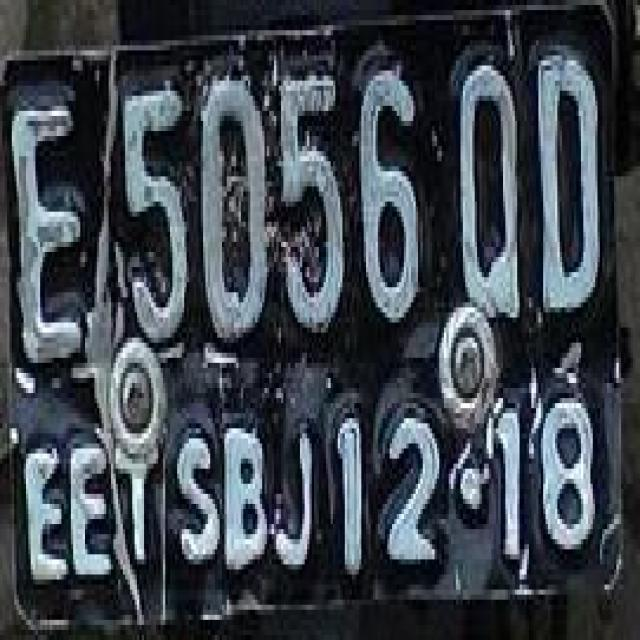0: (197, 78, 273, 355)
5: (119, 75, 190, 352), (276, 78, 347, 340)
6: (353, 60, 426, 332)
D: (532, 42, 606, 336)
E: (9, 104, 85, 376)
Q: (452, 55, 526, 332)
